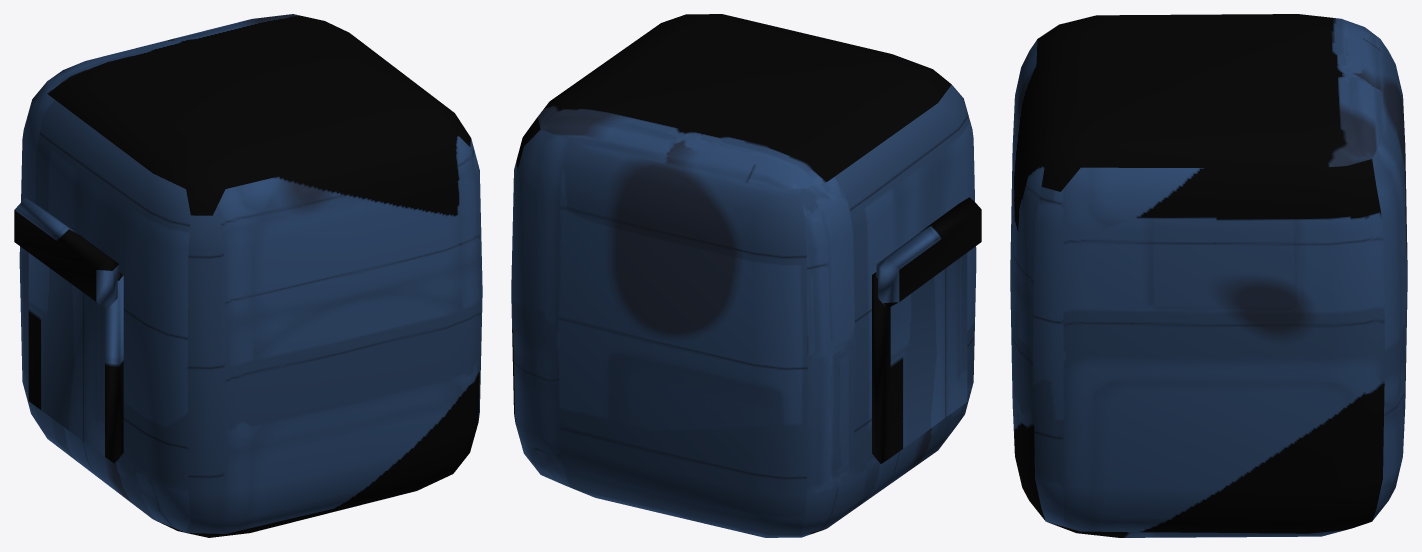
Rendered from Tano_PerneraArribaDer.fbx.
3 renders of one model, left to right at view 1: azimuth 30°, elevation 25°; view 2: azimuth 150°, elevation 25°; view 3: azimuth 270°, elevation 25°, orthographic. The views are drawn at different scales.
Visible parts, largest first — view 1: Tano_PerneraArribaDer; view 2: Tano_PerneraArribaDer; view 3: Tano_PerneraArribaDer.
Boxes of the visible parts, x1=… form: Tano_PerneraArribaDer: x1=14, y1=14, x2=482, y2=537; Tano_PerneraArribaDer: x1=511, y1=14, x2=981, y2=537; Tano_PerneraArribaDer: x1=1010, y1=14, x2=1407, y2=537.
Size of the model in its own units: 1.39 by 1.43 by 1.26.
